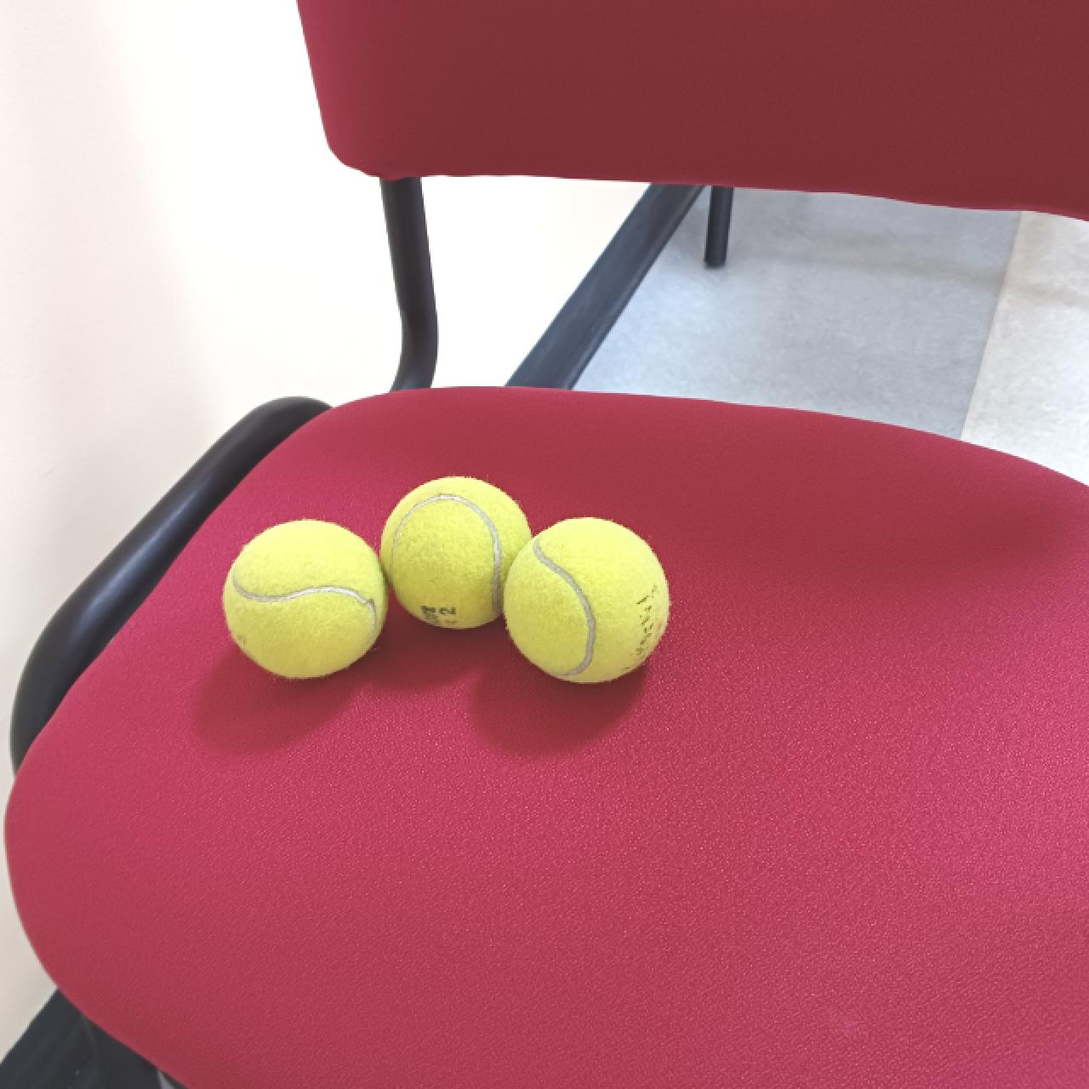tennis-ball: (501, 516, 675, 688), (222, 520, 390, 684), (382, 473, 535, 633)
